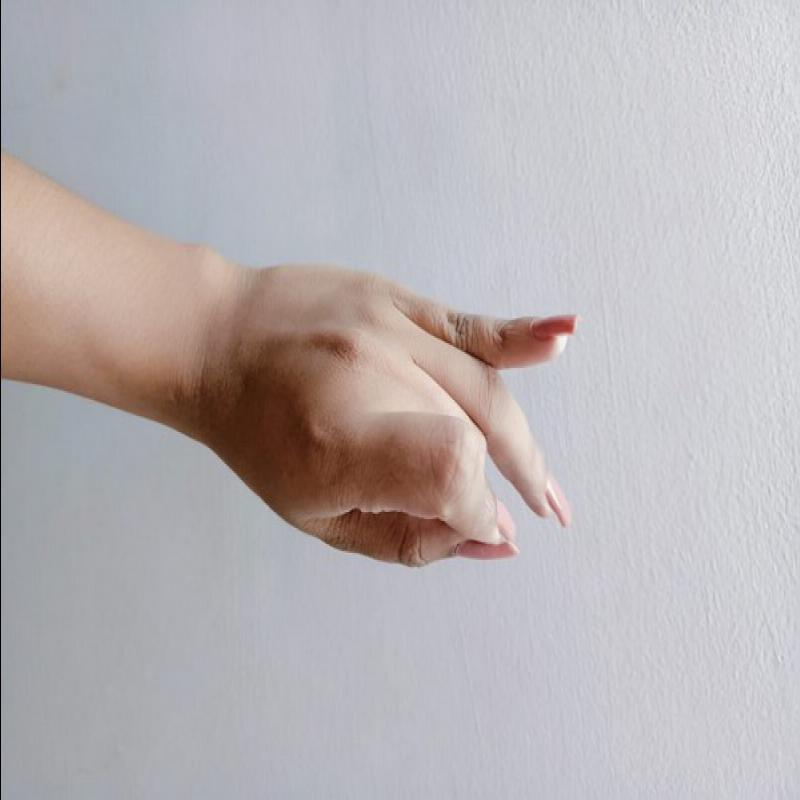Katakam: (243, 237, 594, 579)
